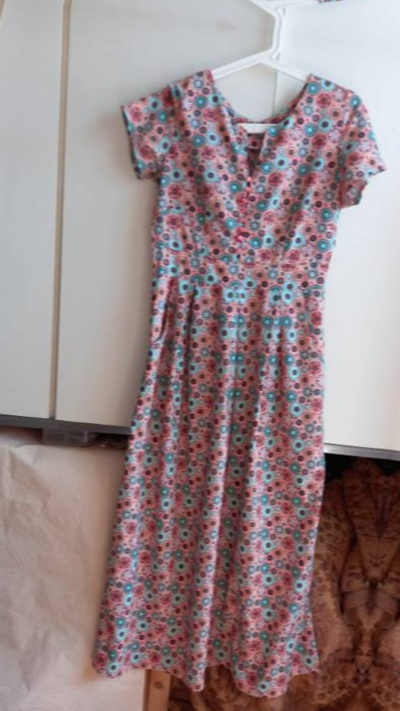Dress: (50, 36, 400, 711), (380, 78, 400, 711), (138, 0, 400, 30)
